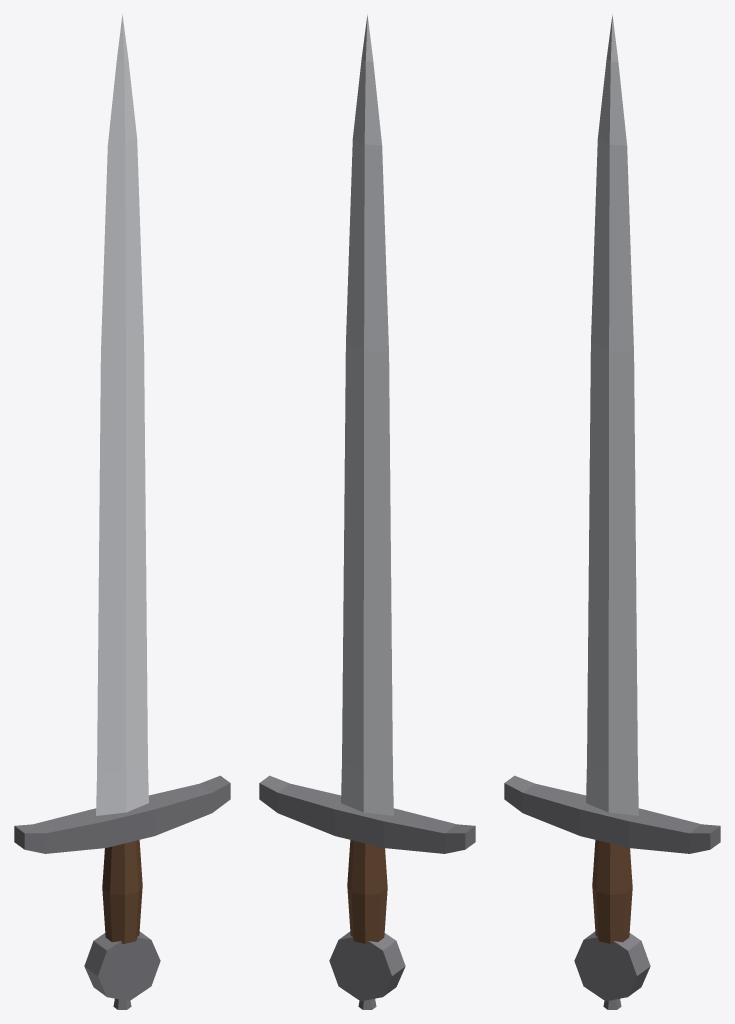
File: medieval_sword.fbx
3 renders of one model, left to right at view 1: azimuth 30°, elevation 25°; view 2: azimuth 150°, elevation 25°; view 3: azimuth 330°, elevation 25°, orthographic.
Parts seen in each view (by area): view 1: Blade, Guard, Pommel, Grip; view 2: Blade, Guard, Pommel, Grip; view 3: Blade, Guard, Pommel, Grip.
Part boxes in pixels (x1,y1,x2,y2): Blade: [96, 14, 148, 815]; Guard: [14, 775, 230, 853]; Pommel: [84, 931, 160, 1009]; Grip: [102, 840, 142, 943]; Blade: [341, 14, 393, 815]; Guard: [259, 775, 475, 853]; Pommel: [329, 931, 405, 1009]; Grip: [347, 840, 387, 943]; Blade: [586, 14, 638, 815]; Guard: [504, 775, 720, 853]; Pommel: [574, 931, 650, 1009]; Grip: [592, 840, 632, 943].
Bounding box in the file's own units: 0.21 × 0.967 × 0.0333.
Materials: 3 (3 with a texture image).
